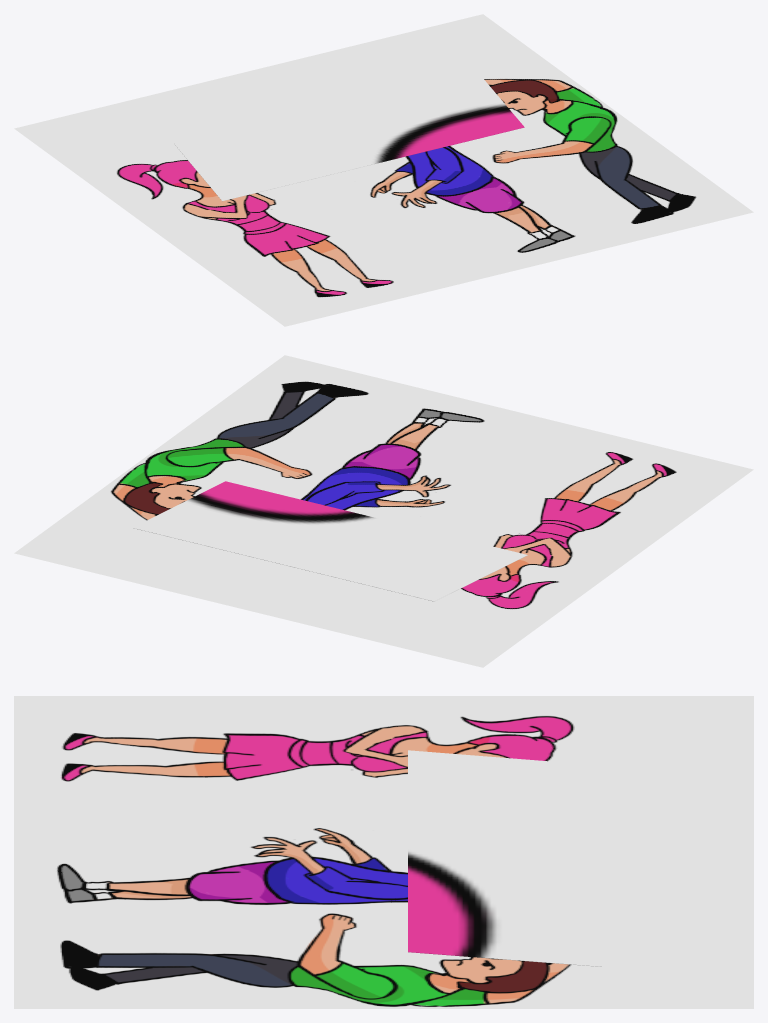
Rendered from Level 142 unroll window to shut it.fbx.
3 renders of one model, top to bottom at view 1: azimuth 30°, elevation 25°; view 2: azimuth 150°, elevation 25°; view 3: azimuth 270°, elevation 25°, orthographic. The views are drawn at different scales.
Parts seen in each view (by area): view 1: Mesh, Blend; view 2: Mesh, Blend; view 3: Mesh, Blend.
Boxes of the visible parts, x1,y1,x2,y2 form: Mesh: (14, 14, 753, 326); Blend: (174, 70, 524, 201); Mesh: (14, 355, 753, 667); Blend: (132, 481, 527, 601); Mesh: (14, 696, 753, 1008); Blend: (408, 750, 601, 966).
Bounding box in the file's own units: 2400 × 1 × 2400.
